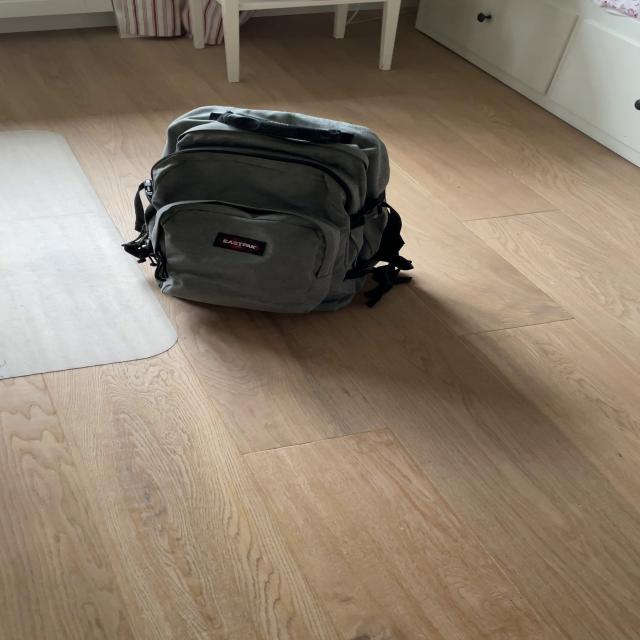backpack: (118, 94, 414, 320)
